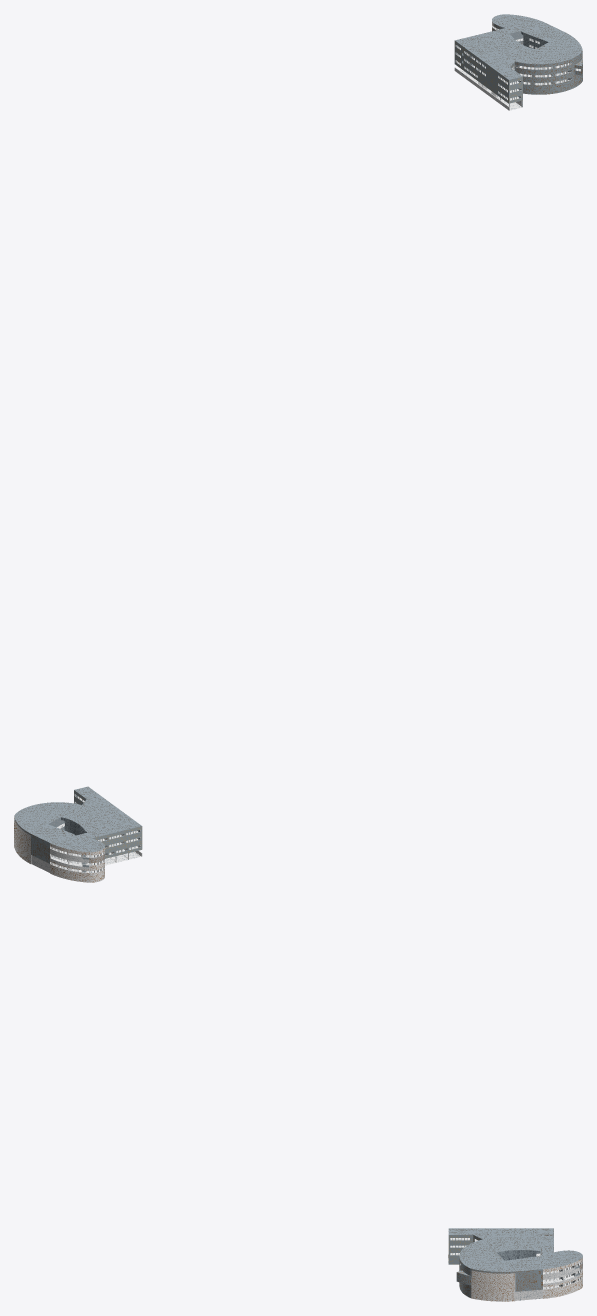
Rendered from Trevianum 27-2 beta met dak entextures.fbx.
3 renders of one model, top to bottom at view 1: azimuth 30°, elevation 25°; view 2: azimuth 210°, elevation 25°; view 3: azimuth 270°, elevation 25°, orthographic. The views are drawn at different scales.
Visible parts, largest first — view 1: ID2532, ID733, ID3963, ID715, ID3740; view 2: ID2532, ID715, ID3963, ID733, ID3740; view 3: ID2532, ID3963, ID715, ID3740, ID733.
Part boxes in pixels (x1,y1,x2,y2): ID2532: (492, 21, 582, 94); ID733: (454, 40, 522, 106); ID3963: (515, 33, 581, 63); ID715: (454, 25, 580, 110); ID3740: (455, 14, 582, 79); ID2532: (14, 817, 104, 882); ID715: (31, 797, 142, 873); ID3963: (15, 802, 81, 833); ID733: (74, 790, 142, 858); ID3740: (14, 786, 141, 852); ID2532: (456, 1257, 582, 1301); ID3963: (460, 1239, 513, 1271); ID715: (448, 1238, 582, 1300); ID3740: (448, 1228, 582, 1271); ID733: (448, 1235, 482, 1264).
Size of the model in its own units: 17303 by 10816 by 622.
Materials: 15 (12 with a texture image).
